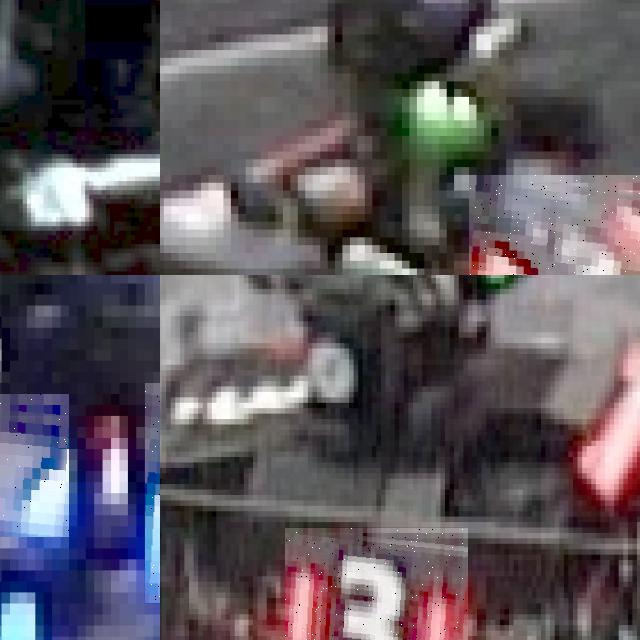B1: (0, 393, 69, 537)
R3: (285, 527, 468, 640), (468, 174, 640, 275)
